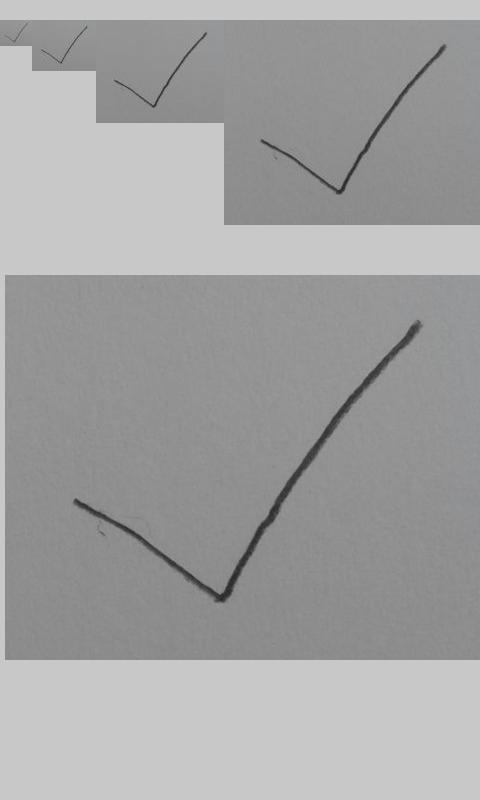check_box: (75, 319, 424, 603), (261, 44, 447, 195), (115, 33, 208, 108), (41, 26, 87, 64), (5, 23, 27, 43)
